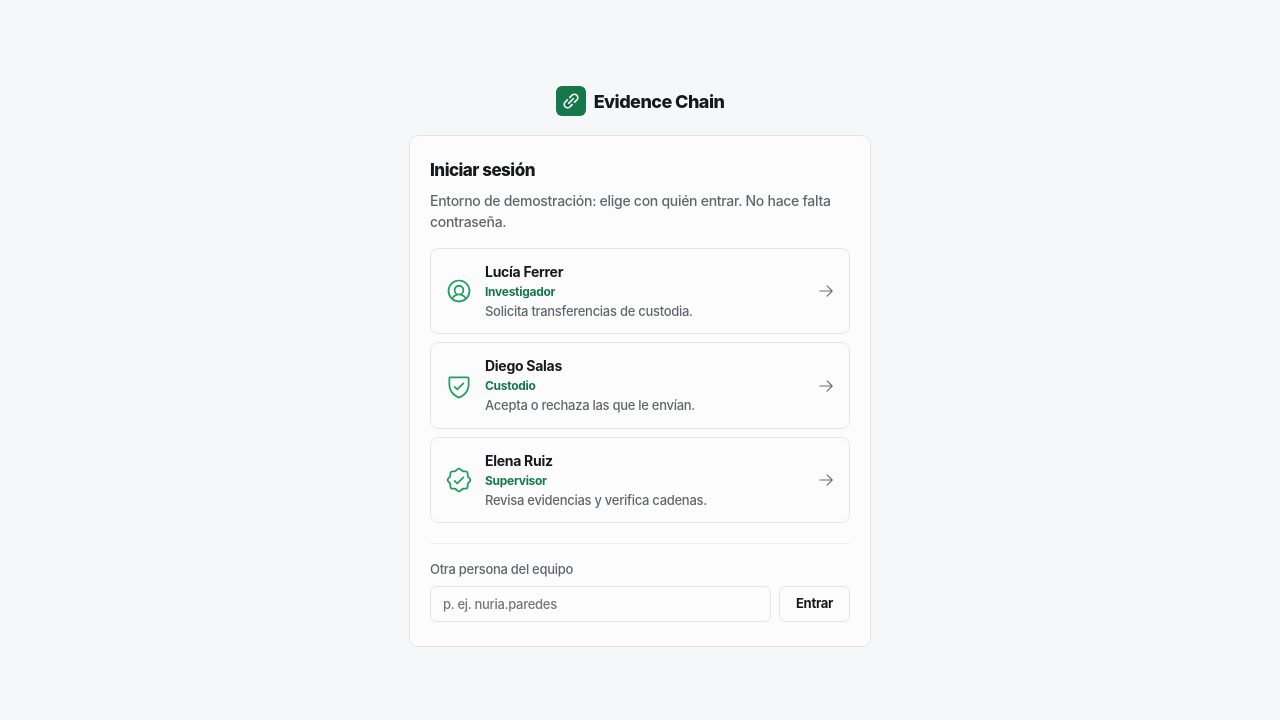
Test case: routes and sign-in › sends a signed-out visitor to sign in, then back to where they were headed
Expected: the heading "Iniciar sesión" is shown, [430,160,535,180]
Click the button "Diego Salas Custodio Acepta o rechaza las que le envían.". click: [523, 366]
box: [430,342,850,429]
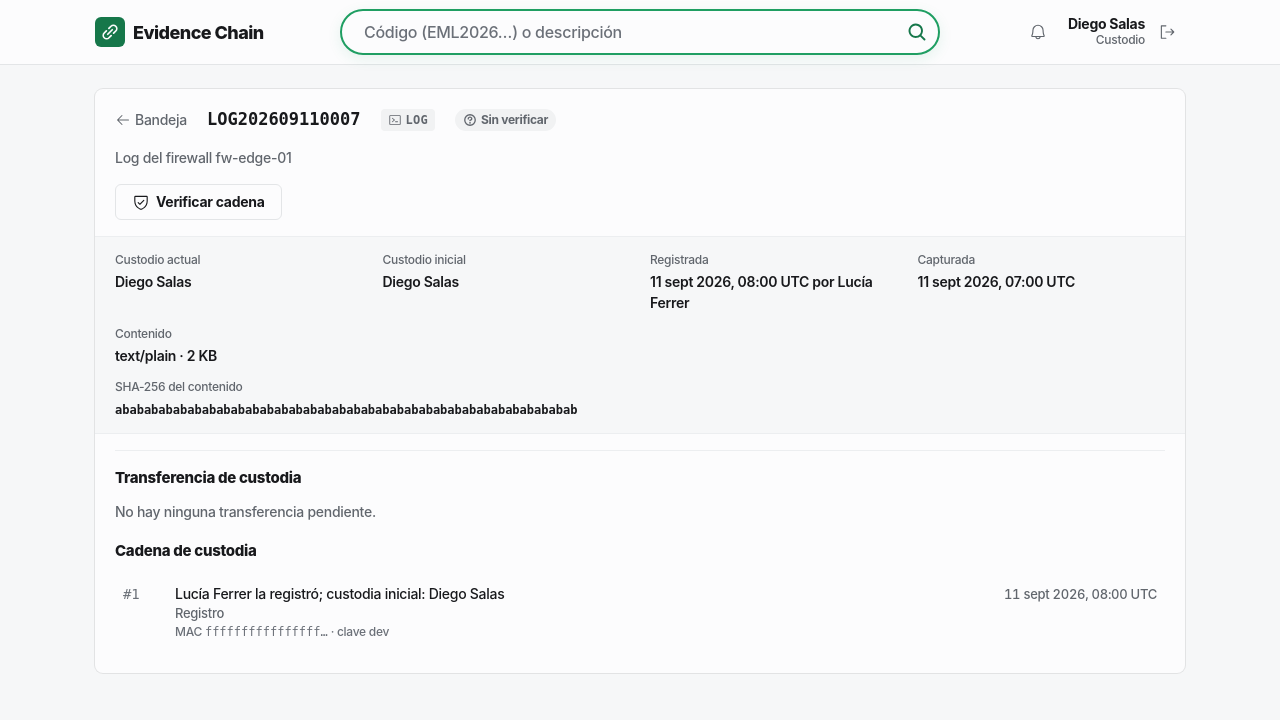
Now the heading "LOG202609110007" is shown, box [207,107,360,132]
Now the text "Custodio" is shown, box [1096,32,1145,47]
Now the 1st text "Diego Salas" is shown, box [1068,16,1145,33]
